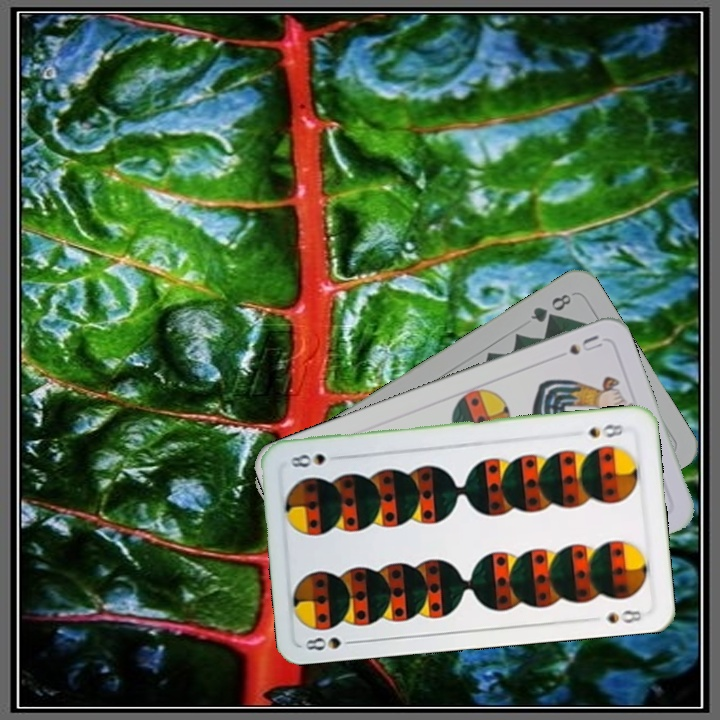G8: (526, 289, 574, 325)
S8: (301, 633, 361, 655), (583, 420, 632, 441)
SU: (565, 331, 605, 358)
